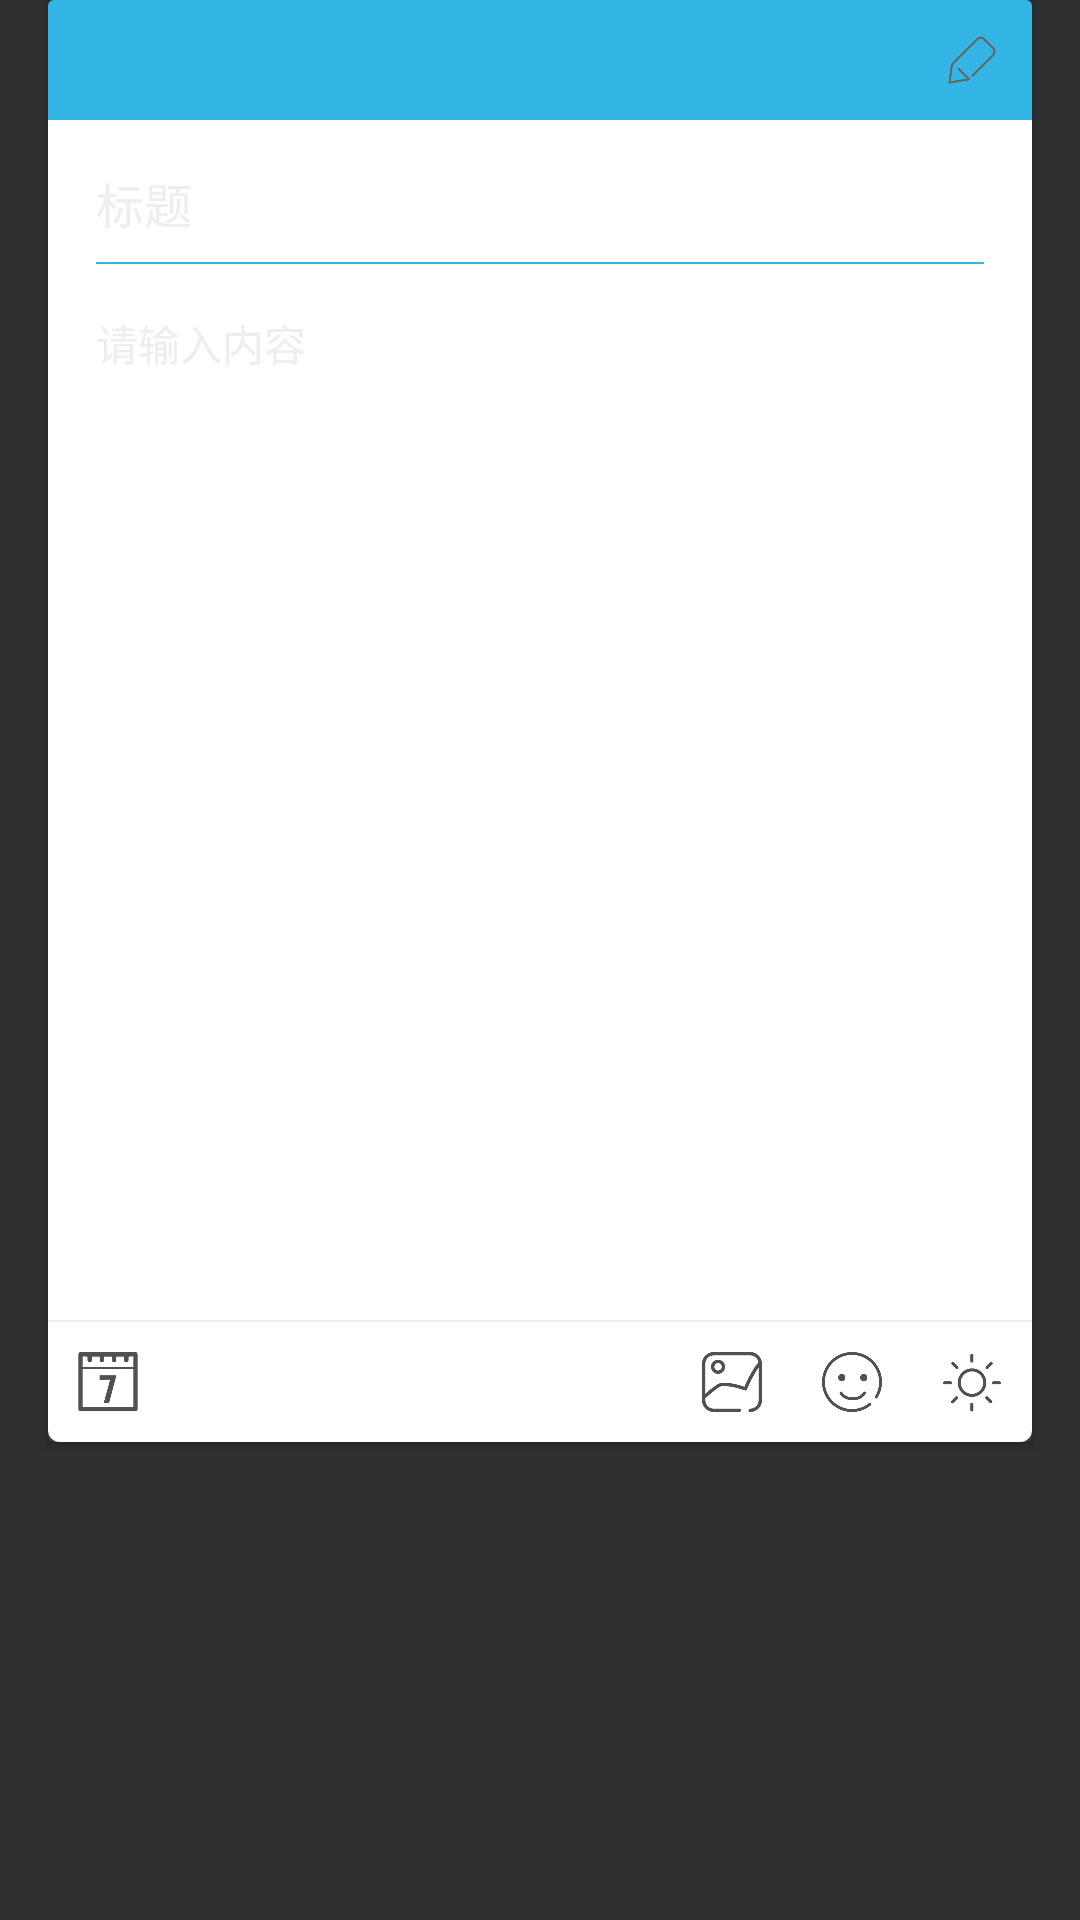

Where icons sit on this 1080×1920 app screen, as (x1, y1, x2, y2):
calendar: (78, 1352, 138, 1411)
edit: (948, 36, 996, 84)
emoji: (822, 1352, 882, 1412)
photo: (702, 1352, 762, 1412)
weather: (943, 1354, 1001, 1412)
